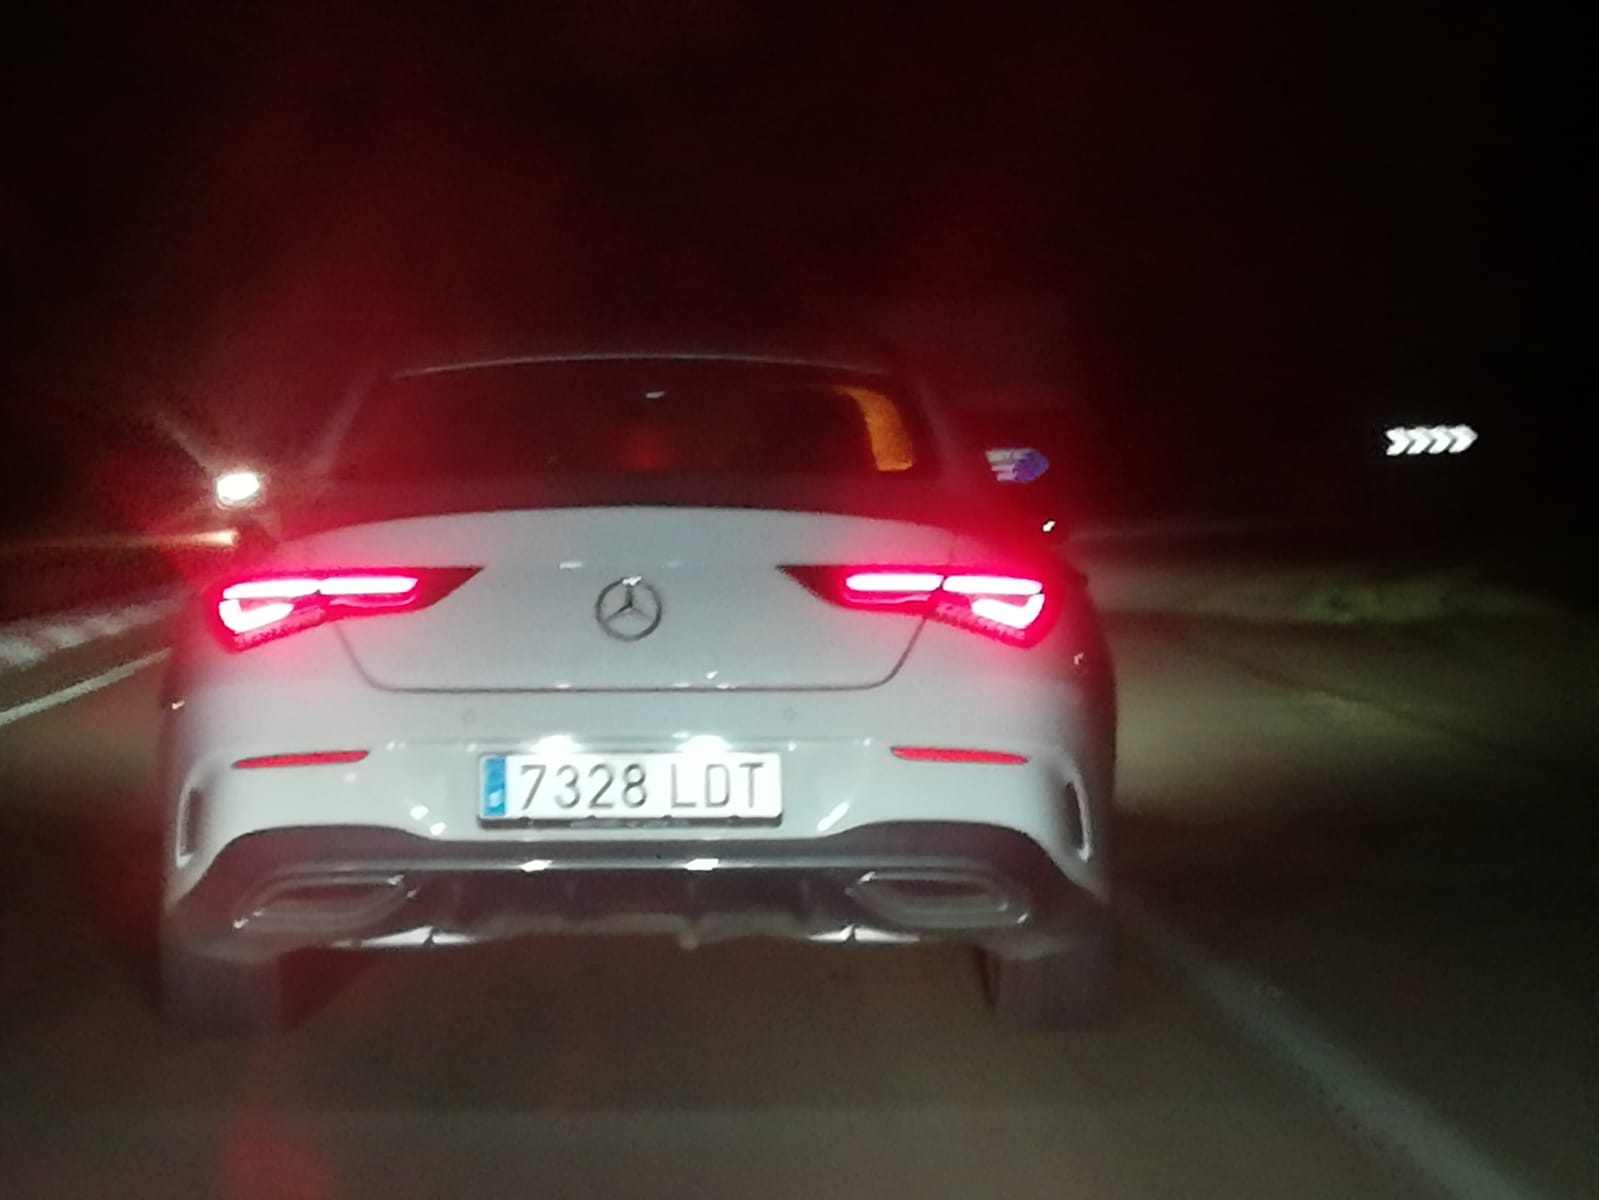Car: (157, 337, 1125, 1016)
Plate: (479, 755, 781, 816)
